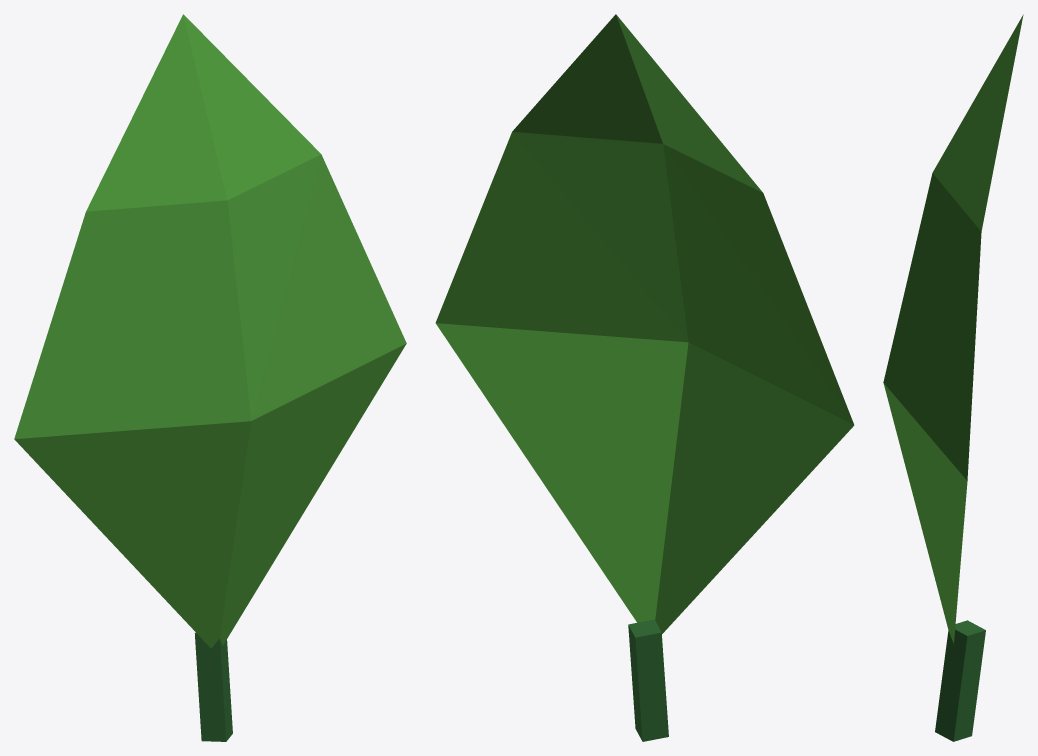
Rendered from Tree_Leaf.fbx.
3 renders of one model, left to right at view 1: azimuth 30°, elevation 25°; view 2: azimuth 150°, elevation 25°; view 3: azimuth 270°, elevation 25°, orthographic. The views are drawn at different scales.
Visible parts, largest first — view 1: Tree_Leaf; view 2: Tree_Leaf; view 3: Tree_Leaf.
Part boxes in pixels (x1,y1,x2,y2): Tree_Leaf: (14,14,406,741); Tree_Leaf: (435,14,854,741); Tree_Leaf: (883,14,1023,741).
Bounding box in the file's own units: 0.1 × 0.1705 × 0.03.
